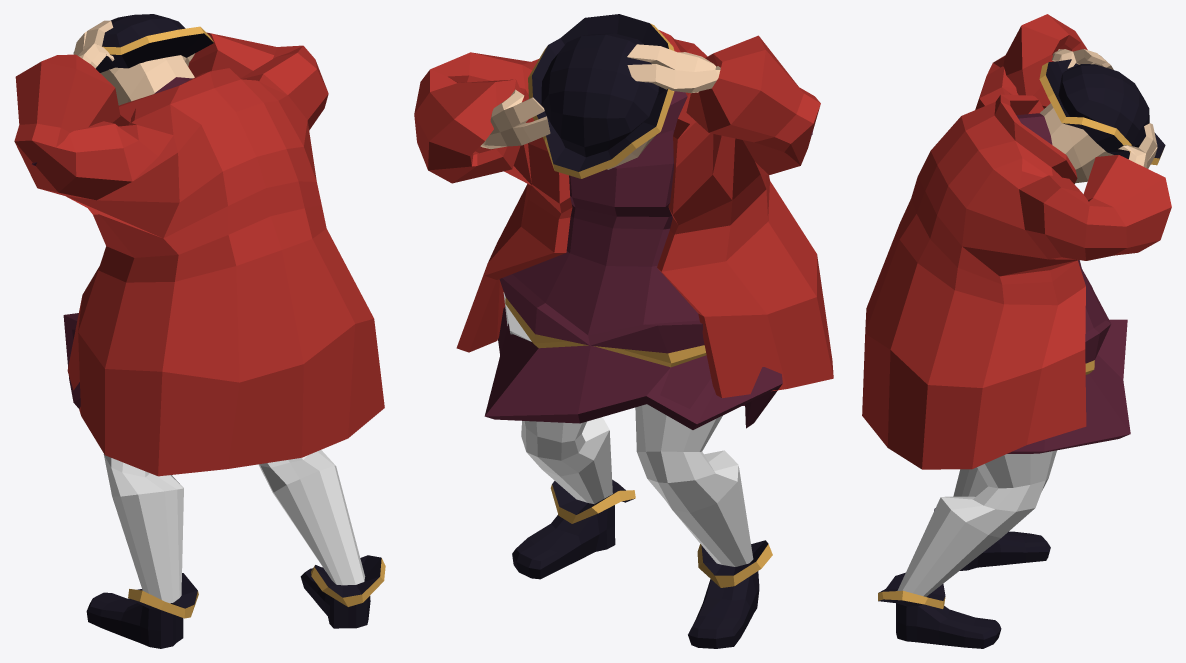
Rendered from King_Valdas_Pose2.fbx.
The picture shows the model from 3 angles, left to right: view 1: azimuth 30°, elevation 25°; view 2: azimuth 150°, elevation 25°; view 3: azimuth 270°, elevation 25°; orthographic projection. The views are drawn at different scales.
Parts seen in each view (by area): view 1: coat, body, hat; view 2: body, coat, hat; view 3: coat, body, hat.
Boxes of the visible parts, x1=… form: coat: x1=14, y1=32, x2=384, y2=476; body: x1=32, y1=20, x2=385, y2=648; hat: x1=73, y1=14, x2=213, y2=72; body: x1=480, y1=44, x2=812, y2=648; coat: x1=414, y1=30, x2=833, y2=398; hat: x1=528, y1=14, x2=674, y2=178; coat: x1=862, y1=14, x2=1171, y2=469; body: x1=878, y1=49, x2=1157, y2=648; hat: x1=1039, y1=59, x2=1165, y2=165.
Bounding box in the file's own units: 0.6218 × 0.5466 × 1.
